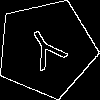Y: (21, 23, 74, 80)
